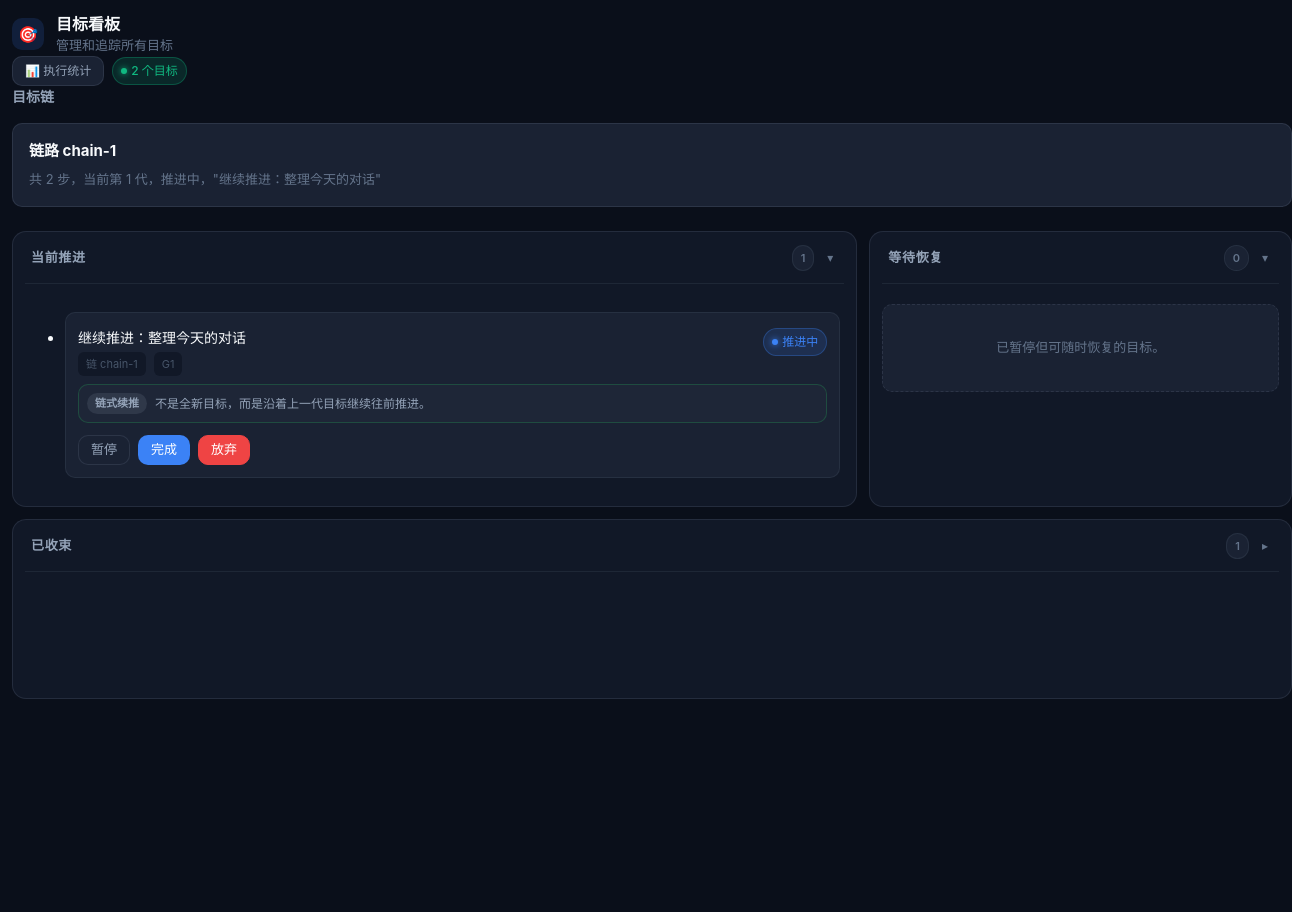
renders chained goals as a timeline ordered by generation
Expected: the heading "链路 chain-1" is shown, [29,140,116,160]
Expected: the text "G1" is shown, [154,352,182,376]
Expand closed column to find G0
Click the heading "已收束" at x=52, y=546, box [31,536,72,556]
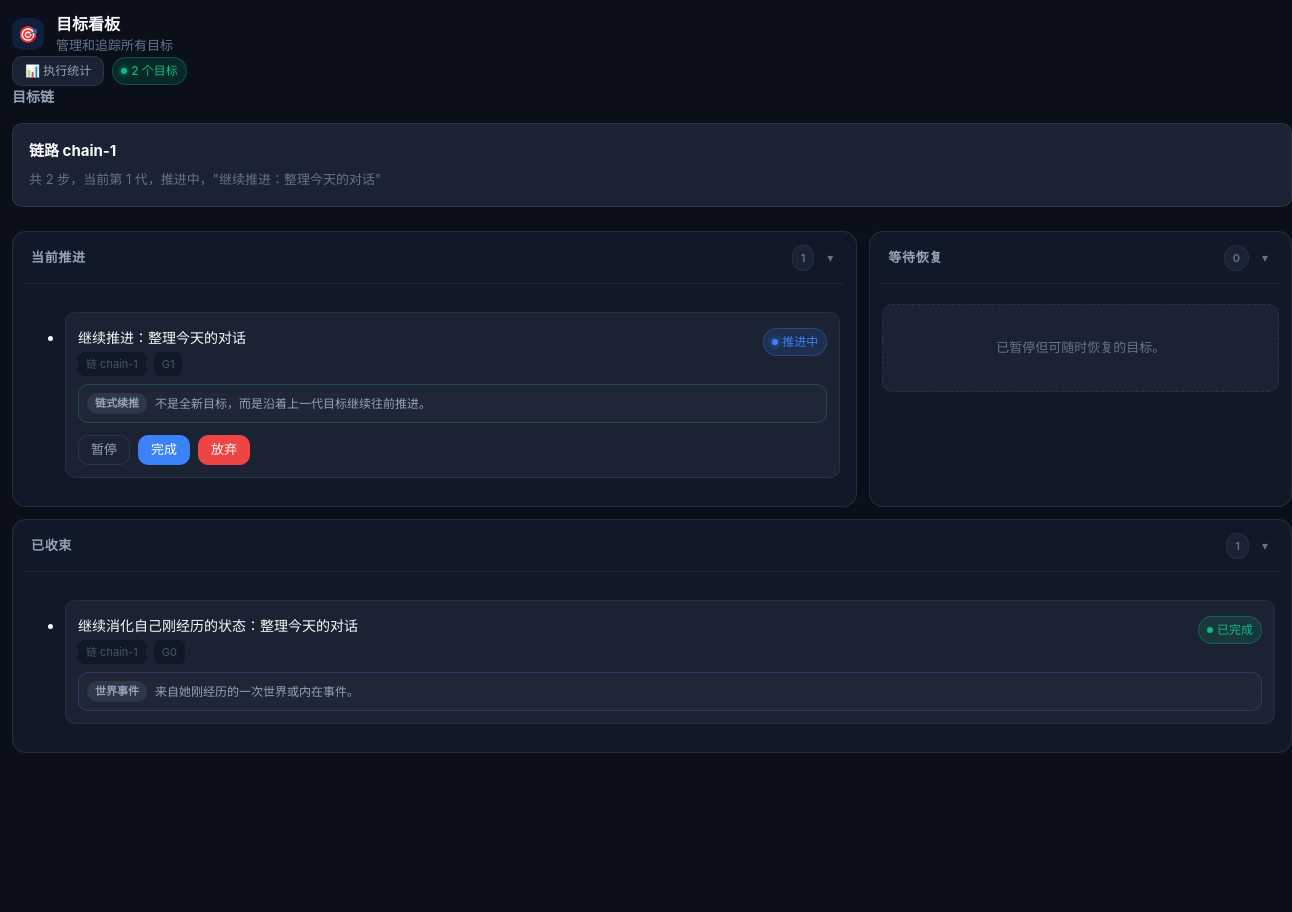
Expected: the text "G0" is shown, [154,640,185,664]
